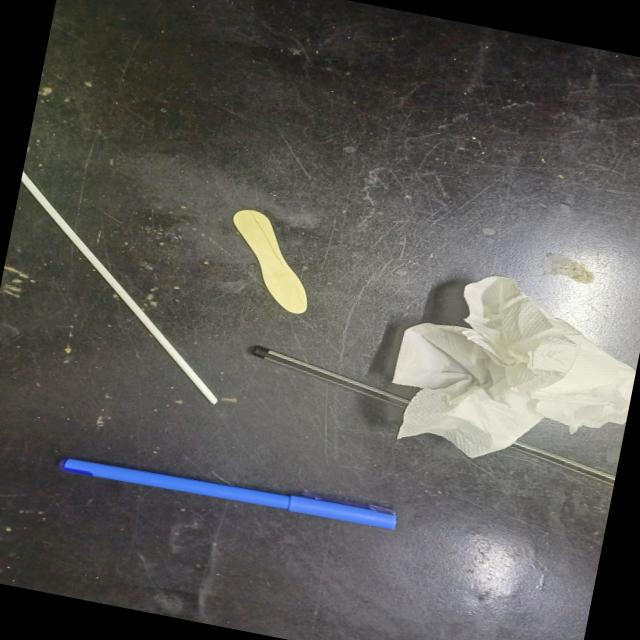Pen-NonBio: (55, 442, 403, 538)
Pencil-Bio: (242, 340, 616, 488)
Straw-NonBio: (21, 165, 230, 406)
Tissue Paper-Bio: (378, 257, 640, 480)
Wooden Spoon-Bio: (214, 204, 326, 316)
